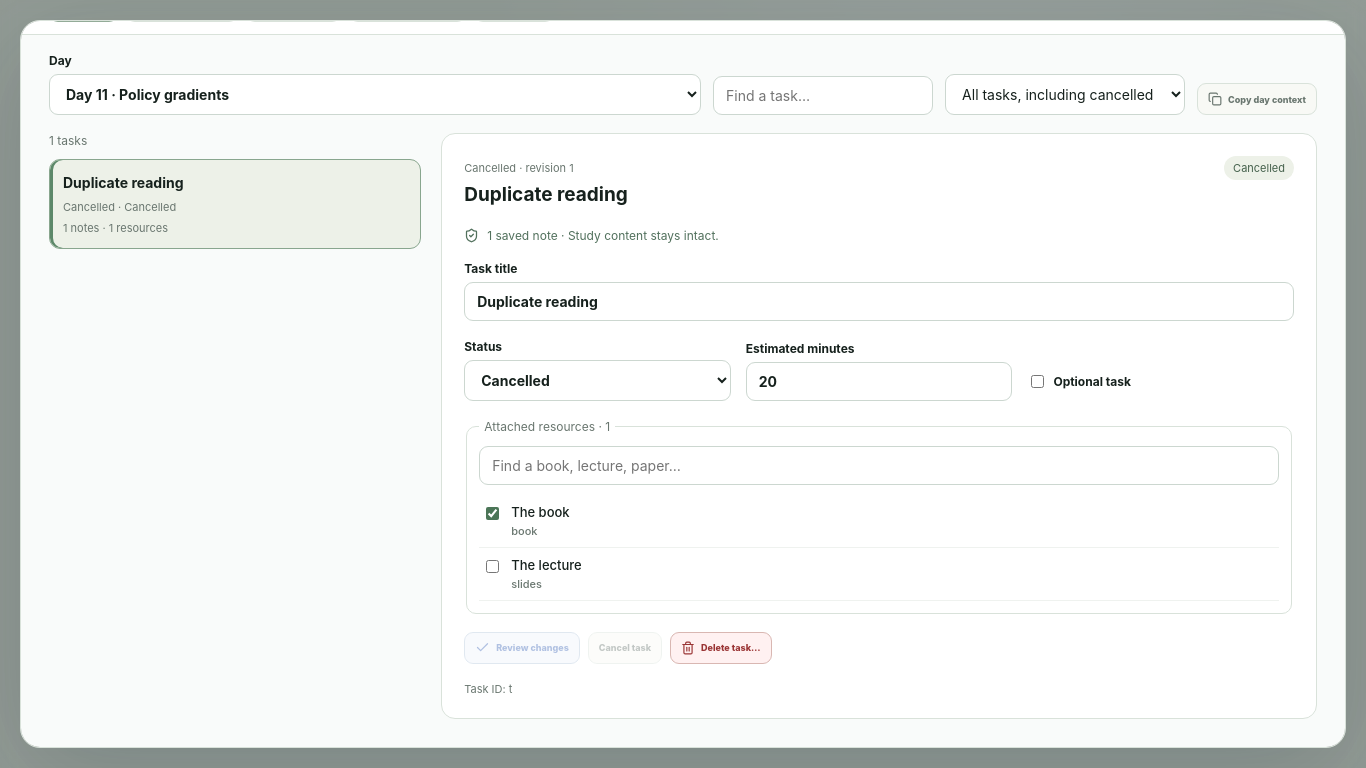
Test: keeps failed saves visible and disables exit while saving
Later steps or results of the test are not shown.
(page scrolled)
Click the button "Delete task…" at (721, 648), box [670,632,772,664]
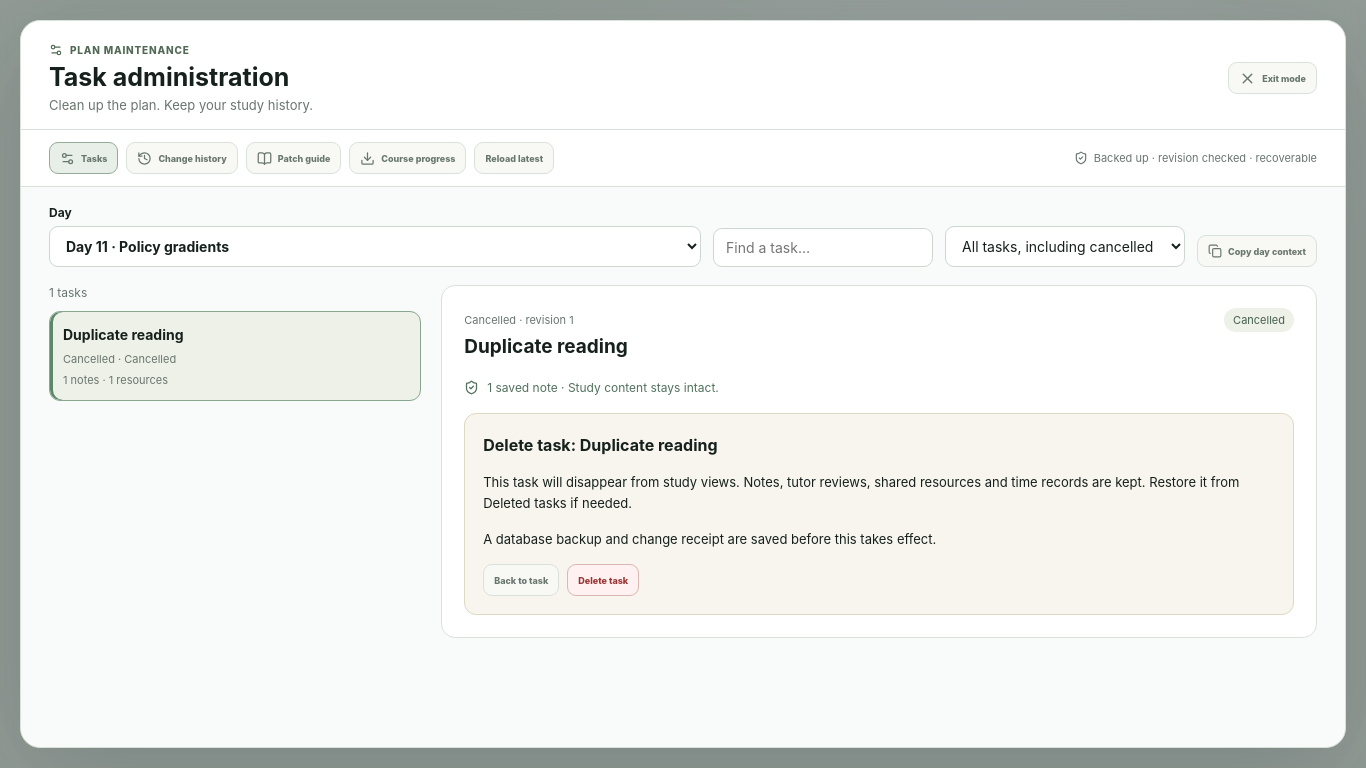
Click the button "Delete task" at (603, 580), box [567,564,639,596]
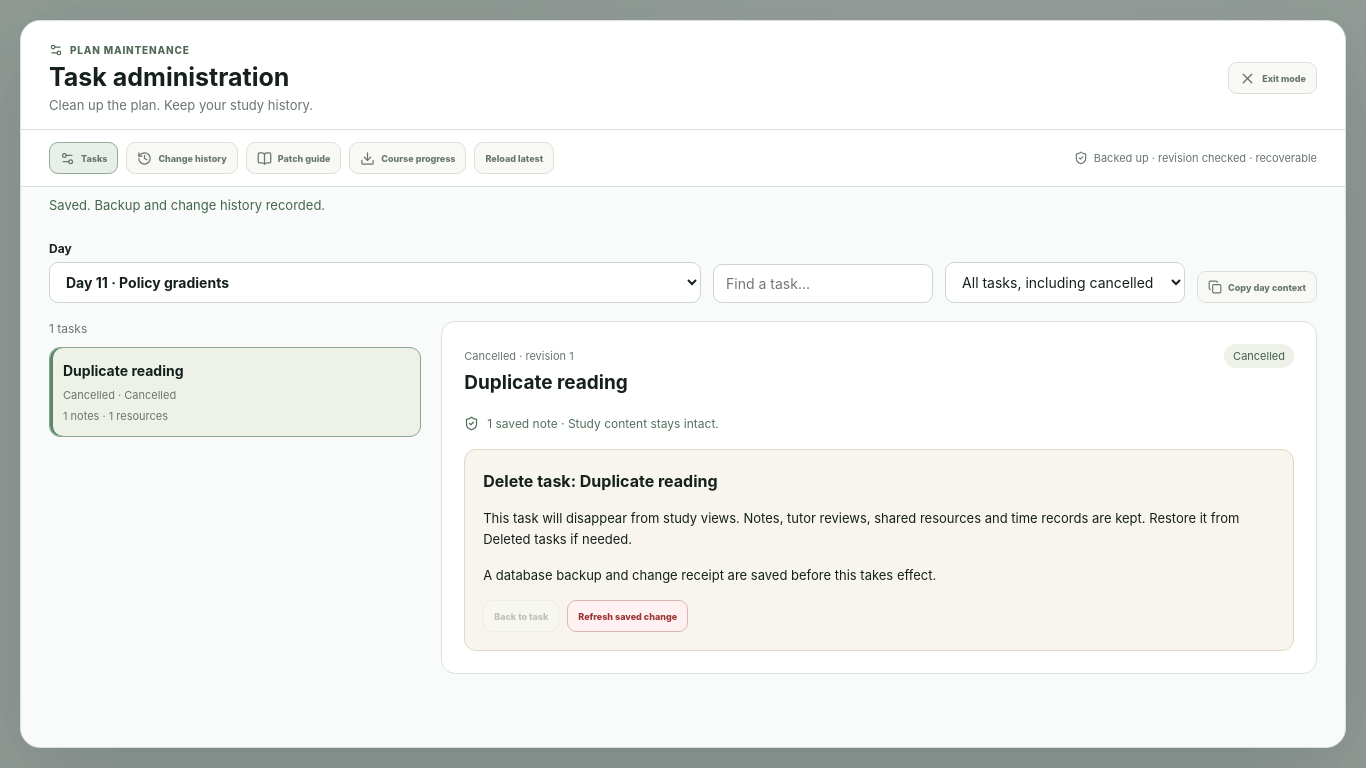
Expected: the button "Exit mode" is enabled, [1228,62,1317,94]
